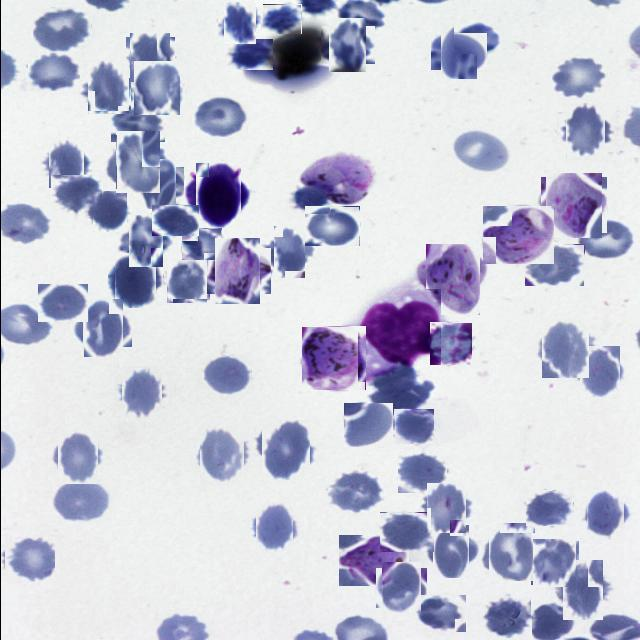difficult: (482, 205, 554, 264), (542, 174, 604, 236)
gametocyte: (301, 326, 365, 390)
leukocyte: (357, 289, 440, 382), (190, 168, 244, 223)
red blood cell: (257, 423, 312, 477), (537, 322, 591, 376), (484, 526, 538, 579), (110, 136, 163, 189), (51, 476, 112, 522), (32, 6, 91, 52), (195, 430, 247, 482), (451, 128, 512, 172), (556, 565, 607, 615), (524, 244, 584, 286), (191, 94, 248, 138), (327, 470, 384, 514), (132, 64, 182, 114), (576, 219, 635, 261), (77, 302, 126, 352), (110, 256, 158, 306), (551, 55, 606, 98), (560, 108, 609, 156), (52, 433, 100, 481), (83, 64, 131, 112), (369, 381, 434, 416), (4, 537, 54, 582), (110, 101, 164, 142), (576, 348, 622, 396), (304, 206, 359, 246), (379, 512, 434, 552), (50, 175, 101, 218), (118, 369, 164, 416), (343, 403, 392, 447), (27, 51, 80, 91), (324, 22, 370, 68), (531, 540, 577, 586), (378, 565, 423, 611), (435, 29, 481, 74), (127, 35, 172, 80), (428, 528, 472, 574), (424, 485, 468, 531), (484, 595, 531, 638), (415, 594, 466, 632), (252, 505, 296, 549), (583, 493, 627, 537), (122, 219, 166, 263), (397, 454, 446, 493), (37, 284, 87, 322), (165, 258, 208, 302), (203, 355, 251, 394), (429, 322, 472, 365), (136, 162, 178, 205), (44, 143, 86, 185), (268, 232, 310, 274), (525, 490, 573, 526), (453, 22, 501, 54), (151, 205, 198, 236), (90, 192, 128, 230), (220, 4, 258, 42), (226, 39, 272, 70), (392, 409, 432, 444), (181, 228, 221, 260), (262, 4, 301, 34), (289, 185, 329, 214)
trophozoite: (420, 247, 483, 311), (301, 153, 373, 203), (338, 535, 408, 586), (209, 243, 265, 299)
